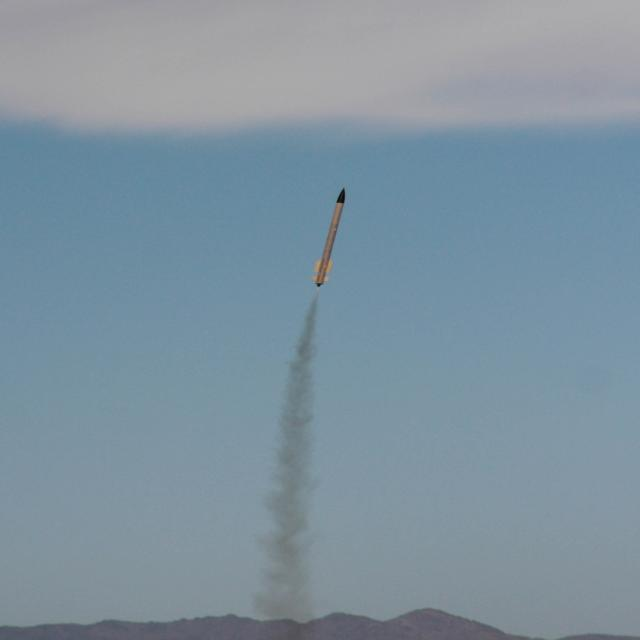Rocket: (310, 187, 346, 288)
